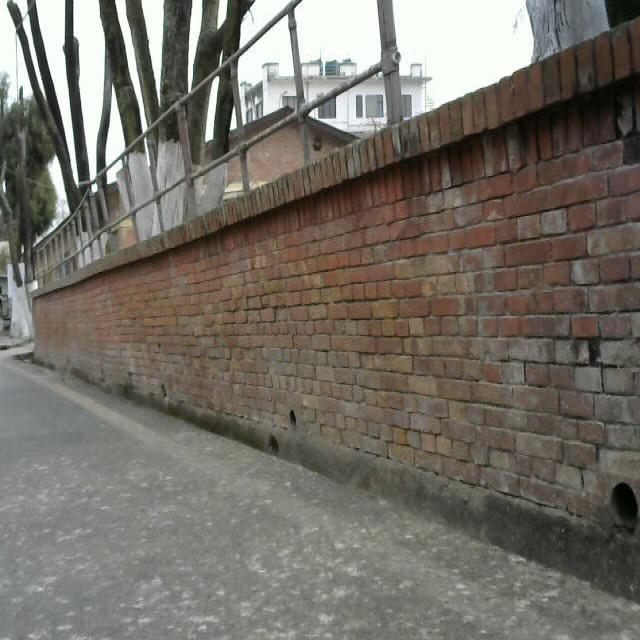Road: (0, 353, 640, 640)
trees: (0, 1, 242, 198), (3, 88, 58, 363)
